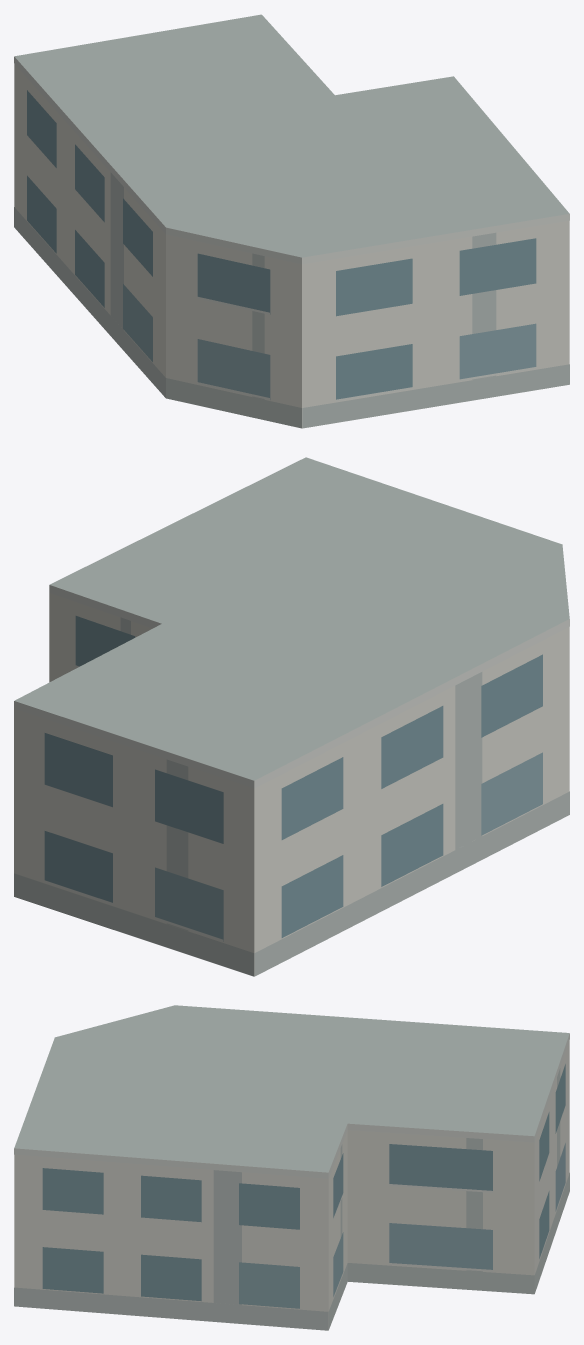
Rendered from survey-upis-32791402.glb.
3 renders of one model, top to bottom at view 1: azimuth 30°, elevation 25°; view 2: azimuth 150°, elevation 25°; view 3: azimuth 270°, elevation 25°, orthographic. The views are drawn at different scales.
Parts seen in each view (by area): view 1: survey-upis-32791402.tmp; view 2: survey-upis-32791402.tmp; view 3: survey-upis-32791402.tmp.
Part boxes in pixels (left/top/right/bottom): survey-upis-32791402.tmp: left=14, top=14, right=569, bottom=428; survey-upis-32791402.tmp: left=14, top=457, right=569, bottom=976; survey-upis-32791402.tmp: left=14, top=1005, right=569, bottom=1330.
Bounding box in the file's own units: 13.87 × 6.1 × 19.45.
